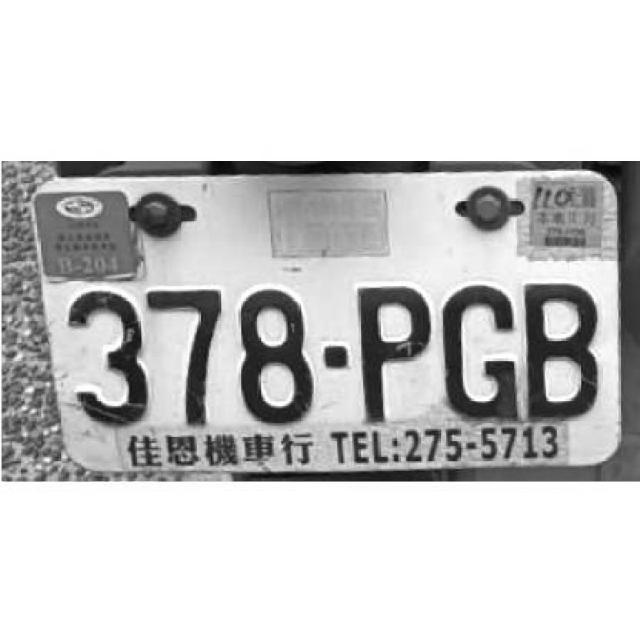-: (322, 343, 348, 368)
3: (62, 285, 150, 432)
7: (144, 283, 226, 427)
8: (232, 282, 315, 427)
B: (523, 280, 599, 415)
G: (437, 282, 518, 420)
P: (356, 276, 432, 421)
